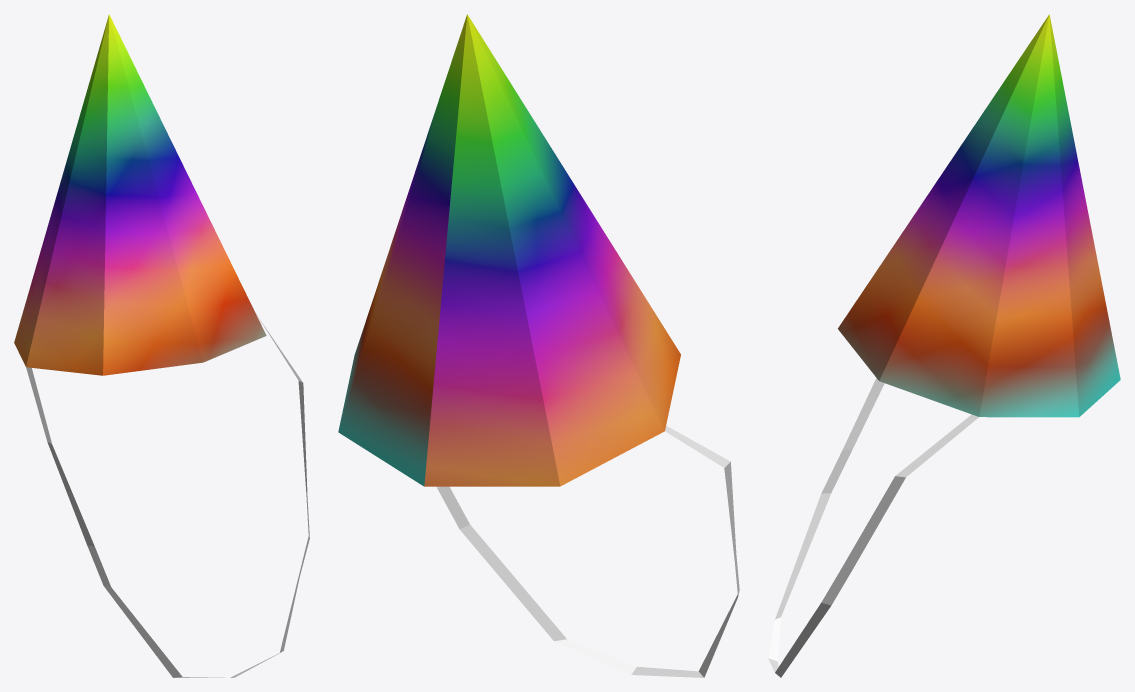
File: partyhat.fbx
The picture shows the model from 3 angles, left to right: view 1: azimuth 30°, elevation 25°; view 2: azimuth 150°, elevation 25°; view 3: azimuth 270°, elevation 25°; orthographic projection. The views are drawn at different scales.
Visible parts, largest first — view 1: partyhat; view 2: partyhat; view 3: partyhat.
Part boxes in pixels (x1,y1,x2,y2): partyhat: (14, 14, 309, 677); partyhat: (338, 14, 739, 677); partyhat: (768, 14, 1120, 677).
Bounding box in the file's own units: 24.19 × 52.94 × 26.13.
